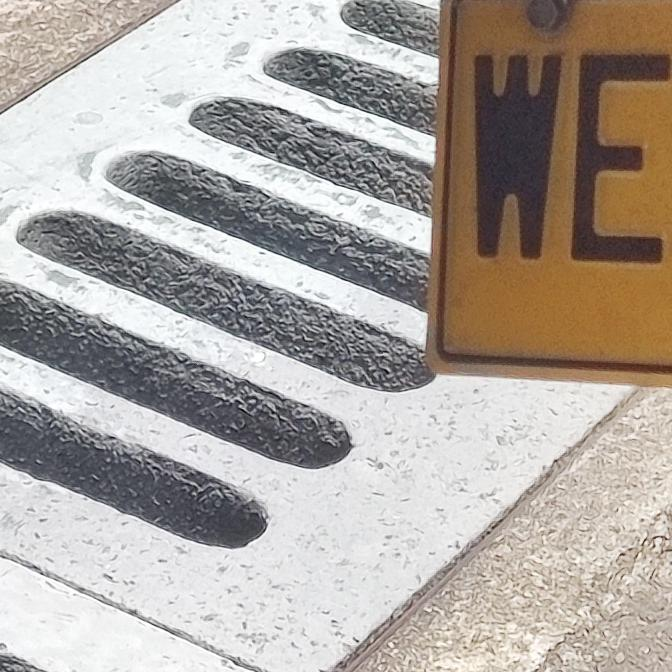plates: (421, 0, 672, 382)
